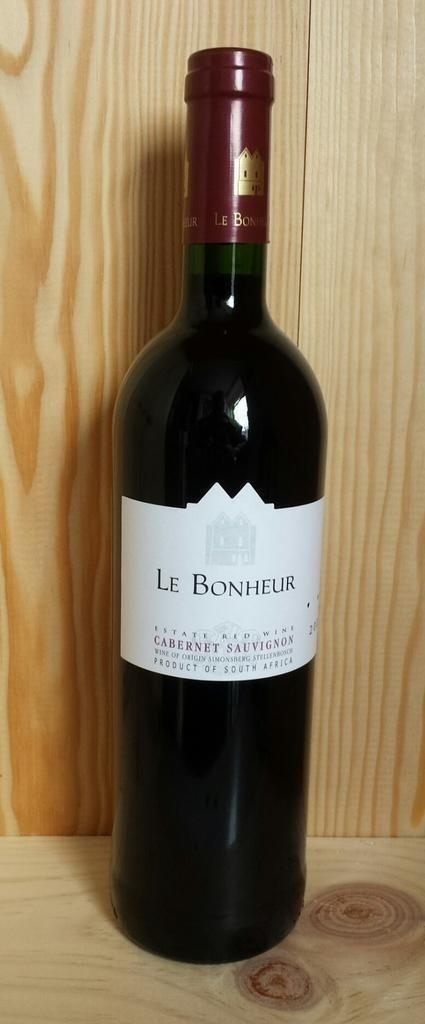bottle-glass: (105, 38, 336, 963)
